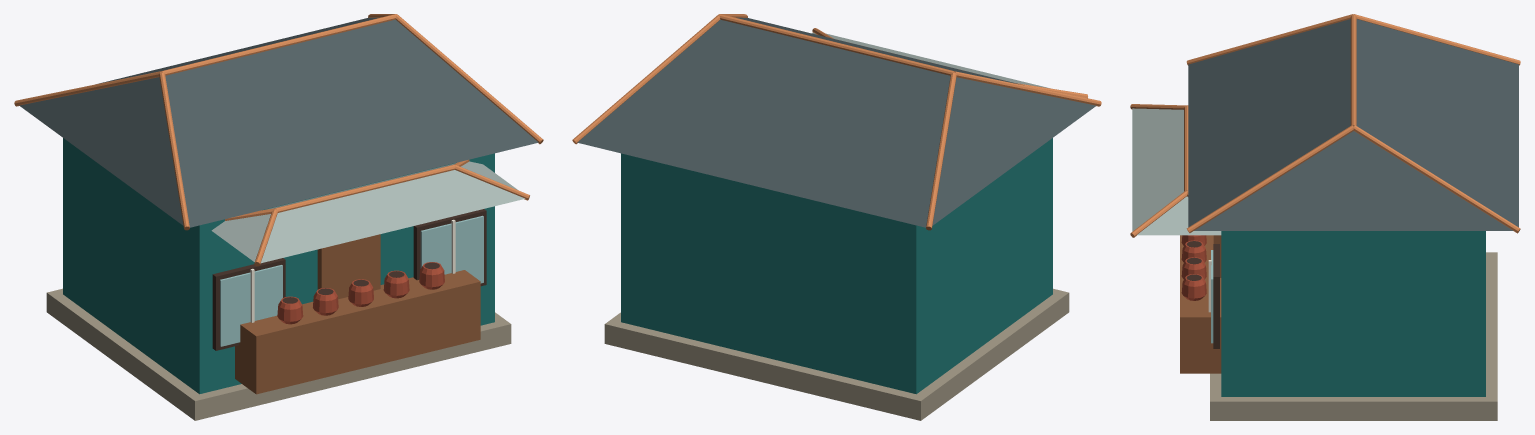
File: 004_pottery_shop.glb
The picture shows the model from 3 angles, left to right: view 1: azimuth 30°, elevation 25°; view 2: azimuth 150°, elevation 25°; view 3: azimuth 270°, elevation 25°; orthographic projection. The views are drawn at different scales.
Parts seen in each view (by area): view 1: Pottery shop; view 2: Pottery shop; view 3: Pottery shop.
Boxes of the visible parts, x1,y1,x2,y2 form: Pottery shop: [14, 14, 543, 420]; Pottery shop: [572, 14, 1101, 420]; Pottery shop: [1130, 14, 1520, 420].
Size of the model in its own units: 6.08 by 4.61 by 5.9.
